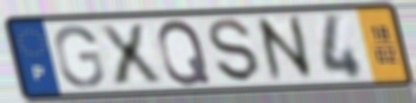4: (320, 11, 366, 83)
G: (51, 23, 107, 90)
N: (252, 12, 319, 86)
Q: (155, 18, 214, 88)
S: (206, 17, 264, 85)
X: (94, 21, 166, 88)
